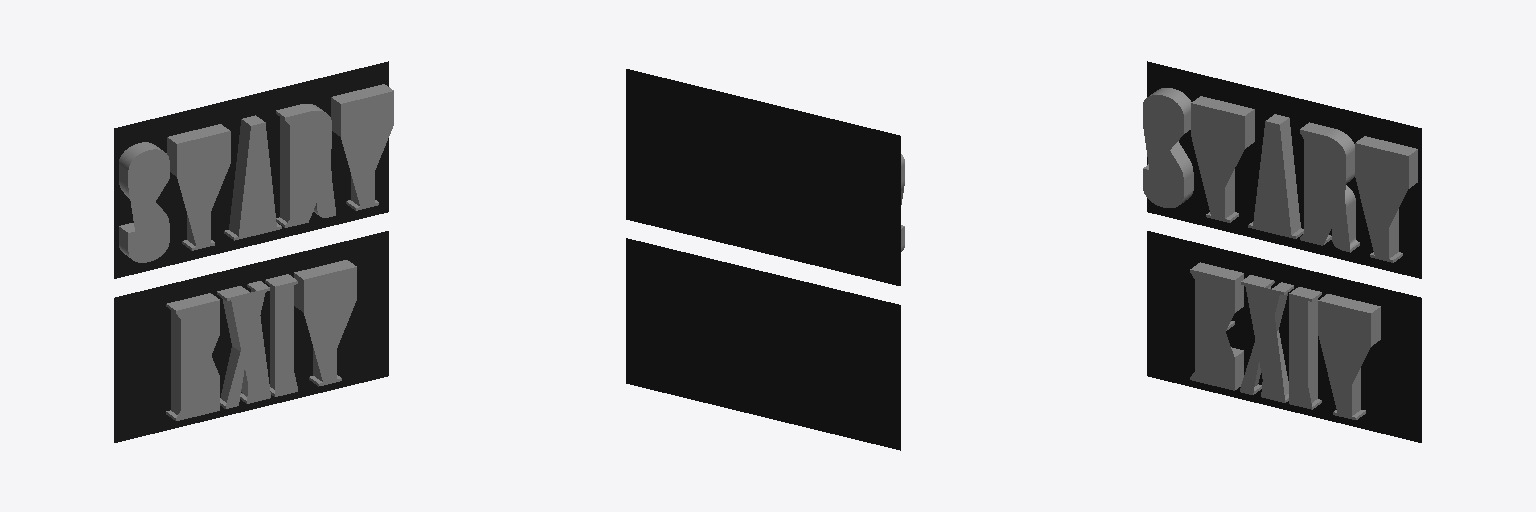
The model's file is buttons.obj.
3 renders of one model, left to right at view 1: azimuth 30°, elevation 25°; view 2: azimuth 150°, elevation 25°; view 3: azimuth 330°, elevation 25°, orthographic.
Visible parts, largest first — view 1: start, exit; view 2: start, exit; view 3: start, exit.
Part boxes in pixels (left/top/right/bottom): start: left=114, top=61, right=393, bottom=278; exit: left=114, top=231, right=388, bottom=442; start: left=626, top=69, right=904, bottom=285; exit: left=626, top=238, right=900, bottom=450; start: left=1143, top=61, right=1421, bottom=278; exit: left=1147, top=231, right=1421, bottom=442.
Bounding box in the file's own units: 10.88 × 11.92 × 0.6687.